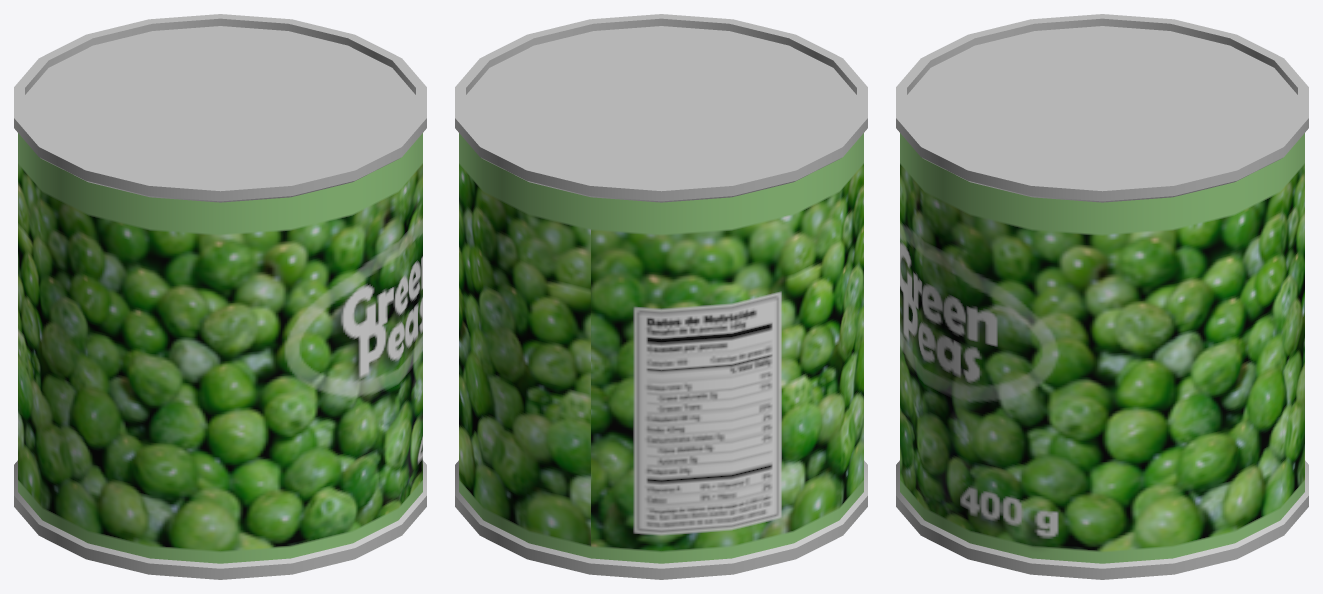
File: Tin 6.FBX
The picture shows the model from 3 angles, left to right: view 1: azimuth 30°, elevation 25°; view 2: azimuth 150°, elevation 25°; view 3: azimuth 270°, elevation 25°; orthographic projection.
Visible parts, largest first — view 1: tin 6; view 2: tin 6; view 3: tin 6.
Boxes of the visible parts, bbox=[...] form: tin 6: bbox=[14, 14, 426, 579]; tin 6: bbox=[455, 14, 867, 579]; tin 6: bbox=[896, 14, 1308, 579].
Bounding box in the file's own units: 11.85 × 12.13 × 11.67.
